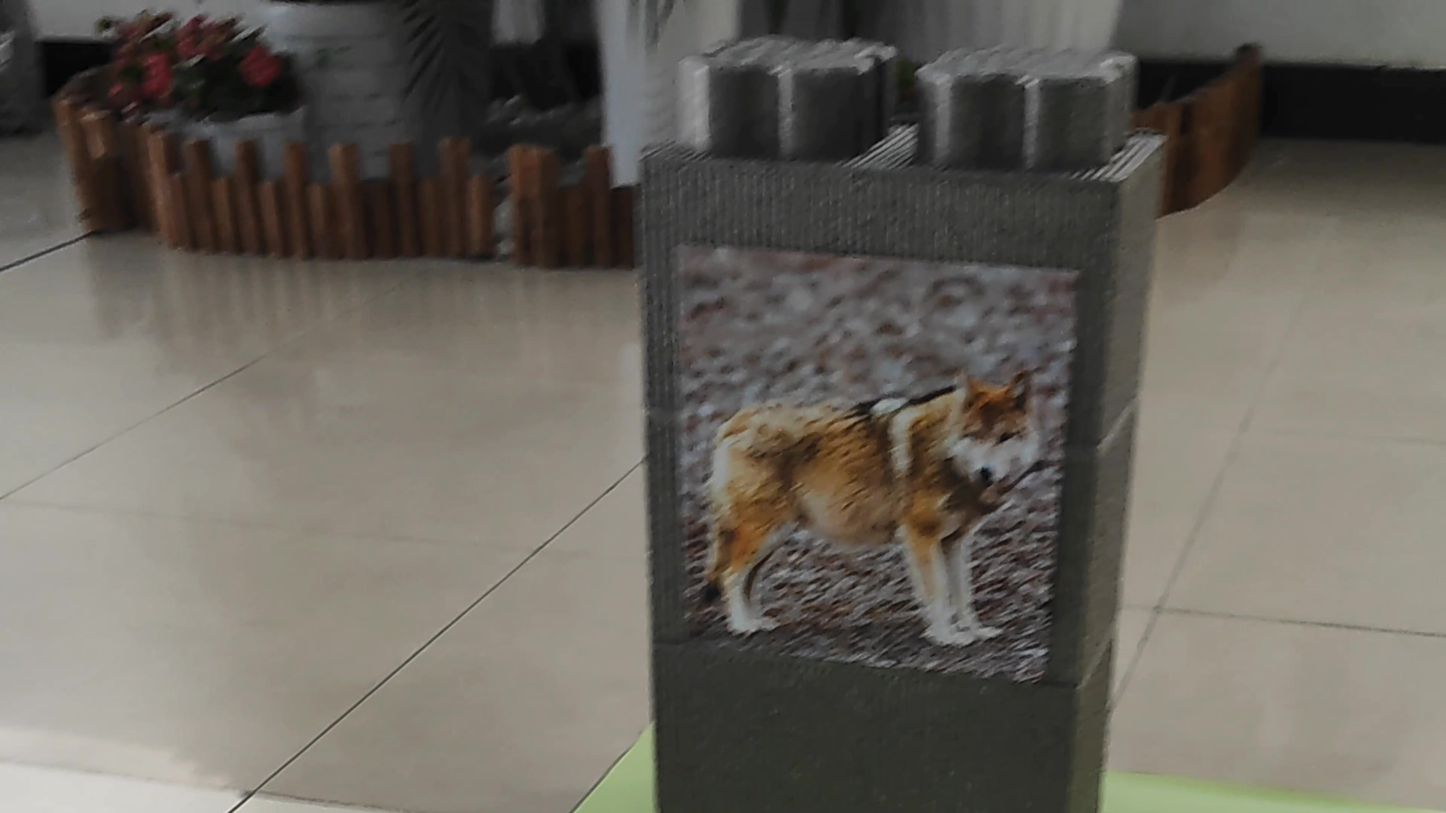wolf: (673, 241, 1054, 676)
